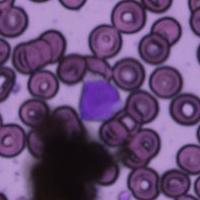L: (78, 78, 124, 122)
